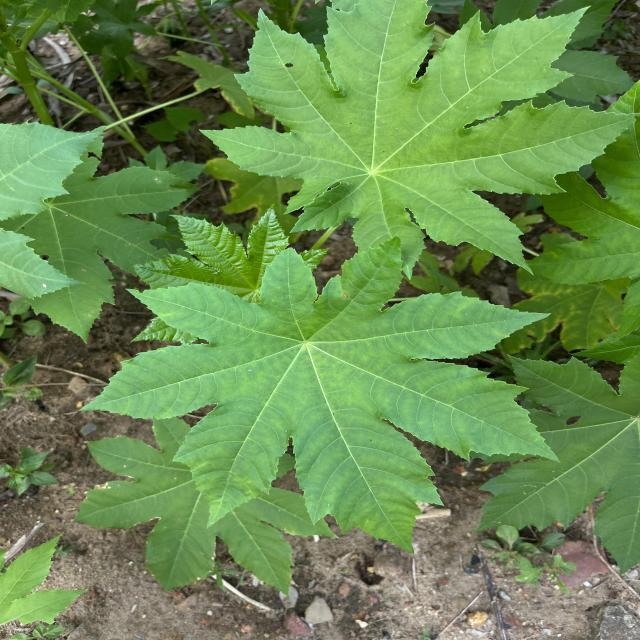Ricinus communis linn: (76, 230, 564, 556), (195, 0, 640, 282)
